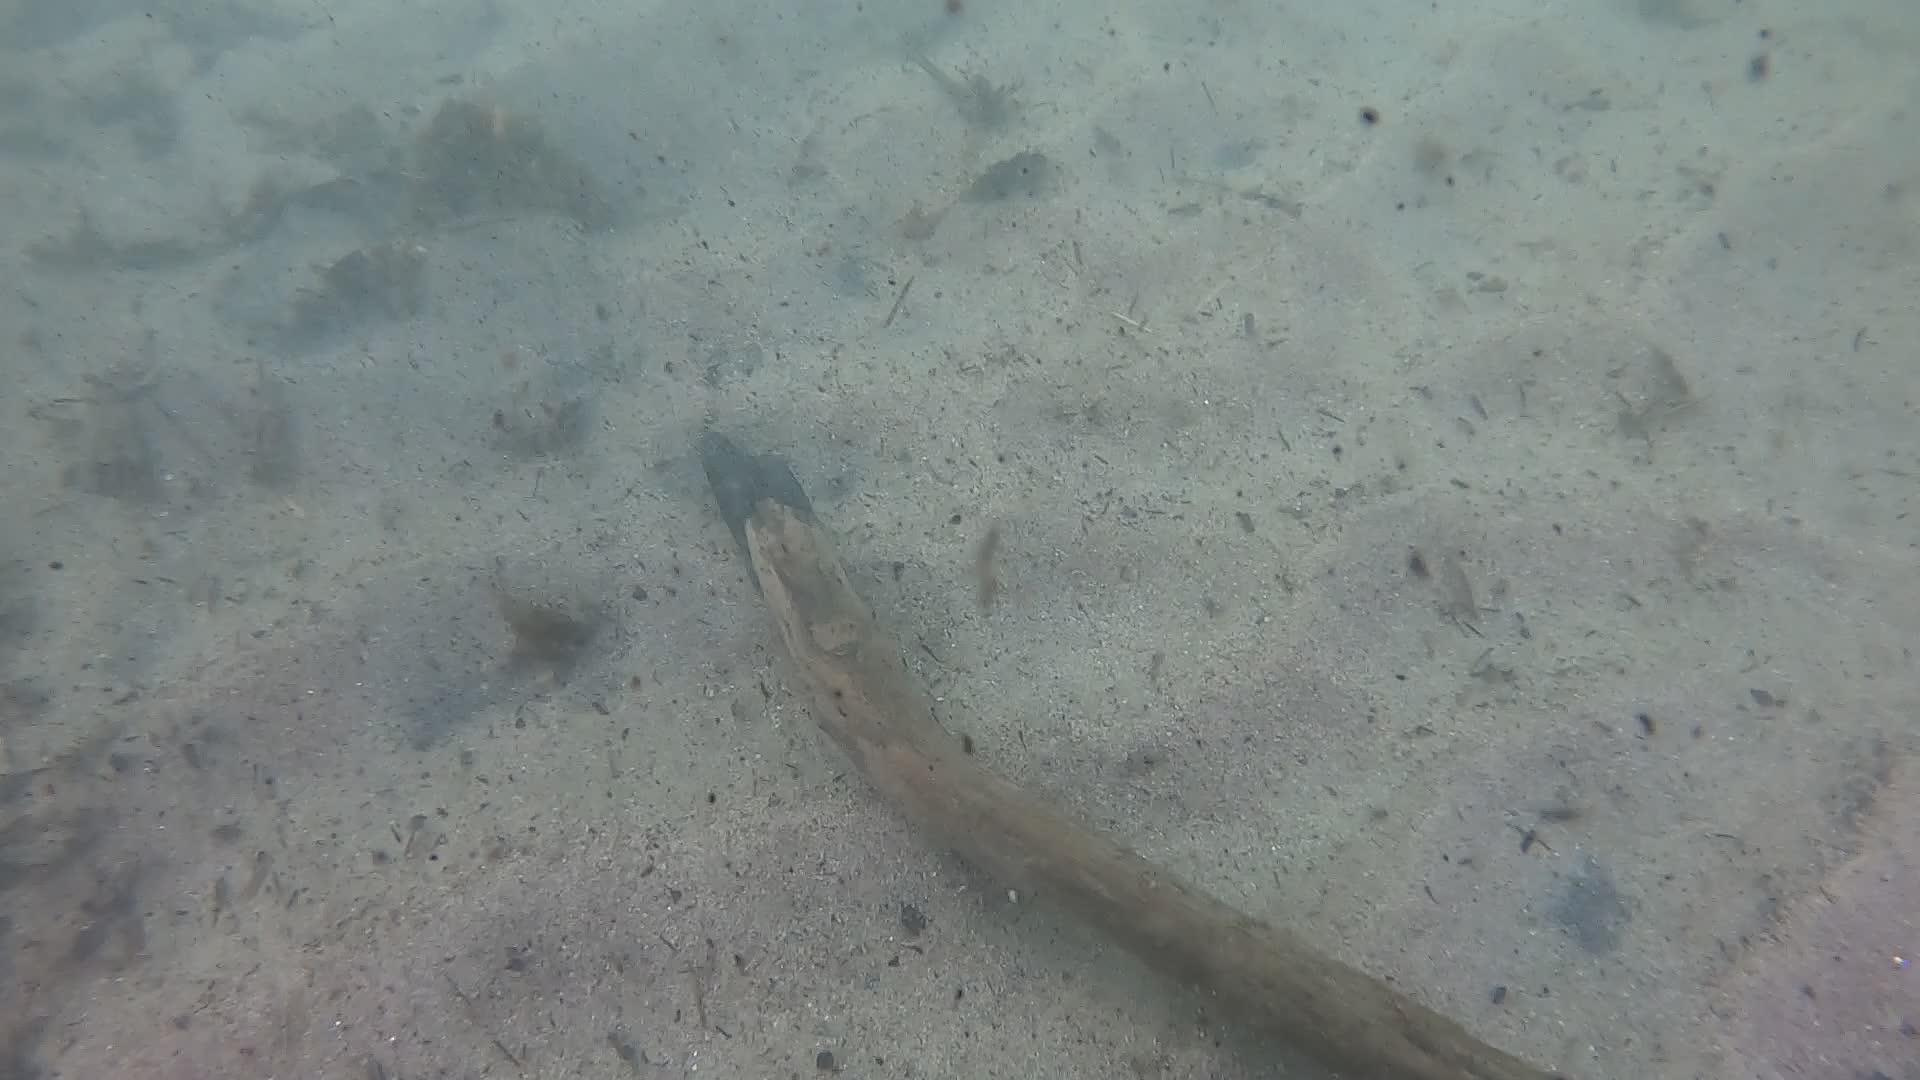wood: (696, 423, 1563, 1080)
